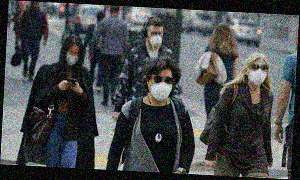with_mask: (149, 74, 175, 102), (147, 29, 164, 49), (65, 49, 81, 67)
